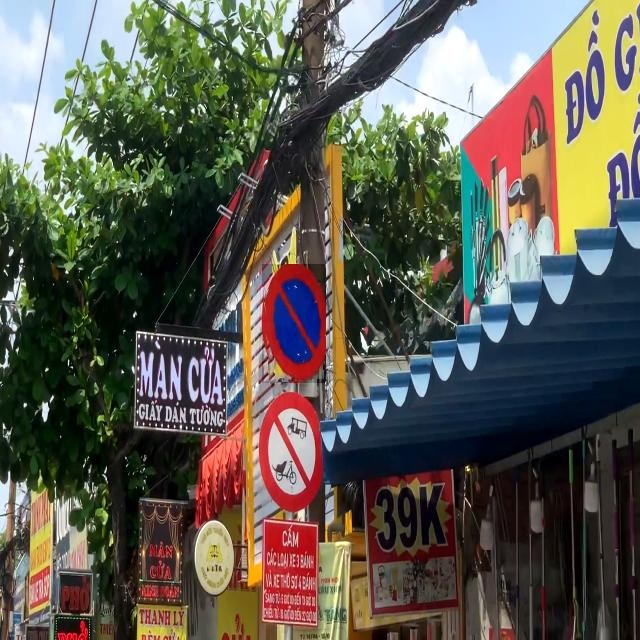bien_cam: (262, 264, 326, 383)
